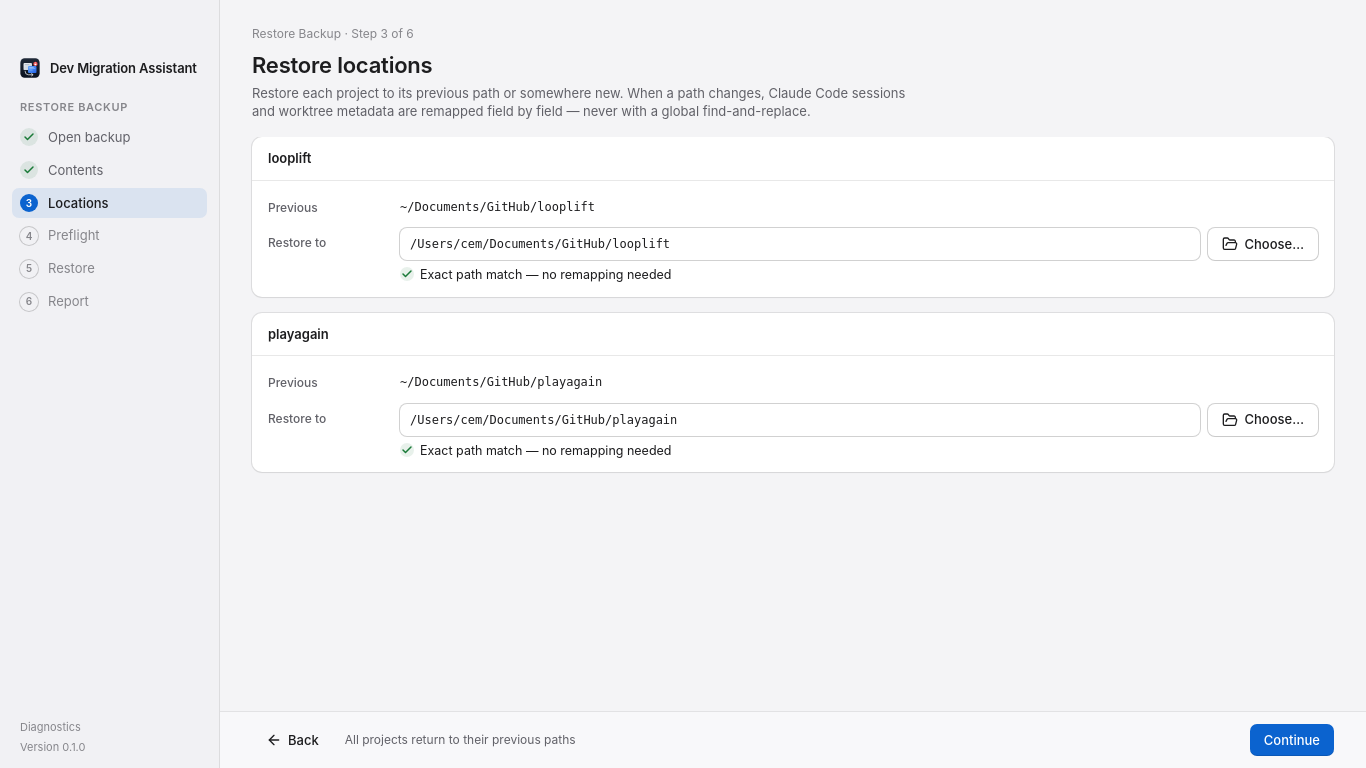
it: Restore — mapping › uses the native chooser and starts planning
Click the button with test id "mapping-choose-1" at (1263, 420), box [1208, 404, 1318, 436]
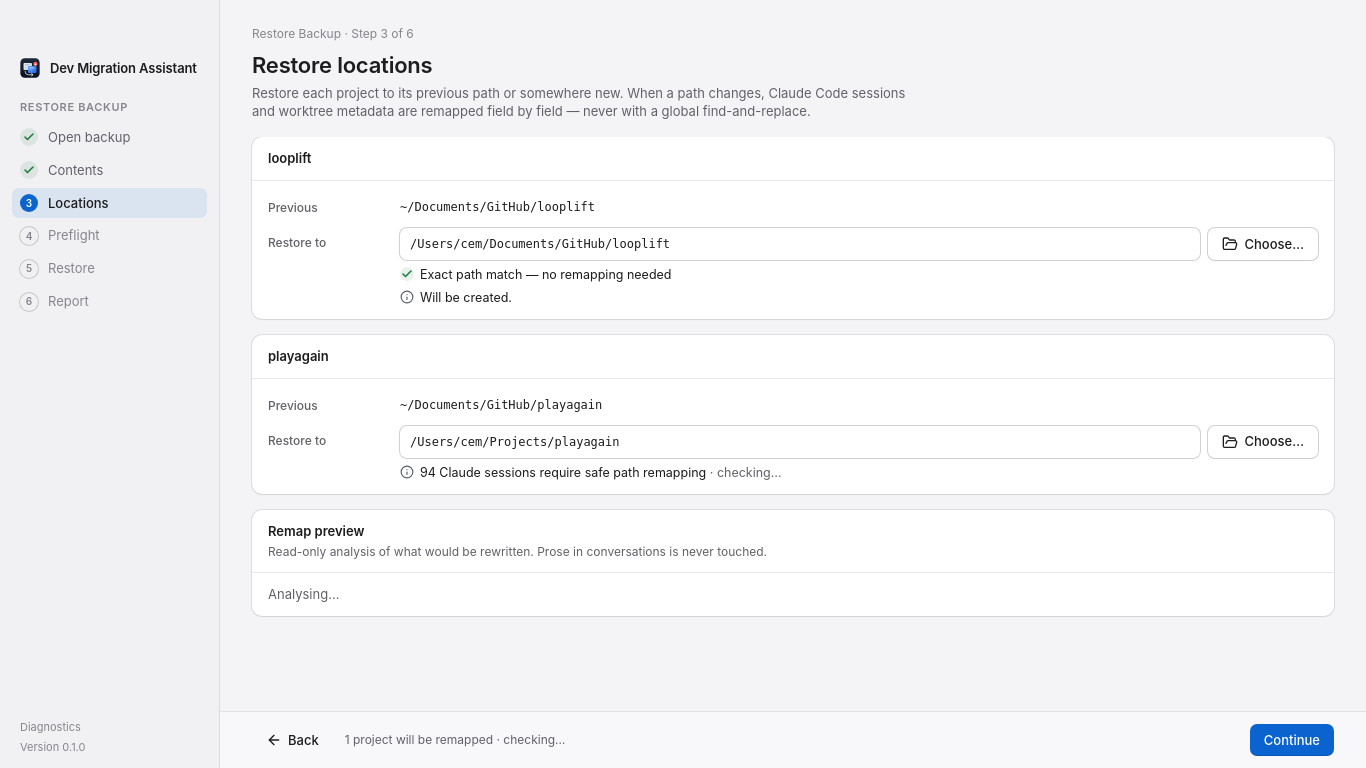
Expected: the field with test id "mapping-input-1" holds "/Users/cem/Projects/playagain", [400, 426, 1200, 458]
Click the button with test id "mapping-continue" at (1292, 740), box [1250, 724, 1334, 756]
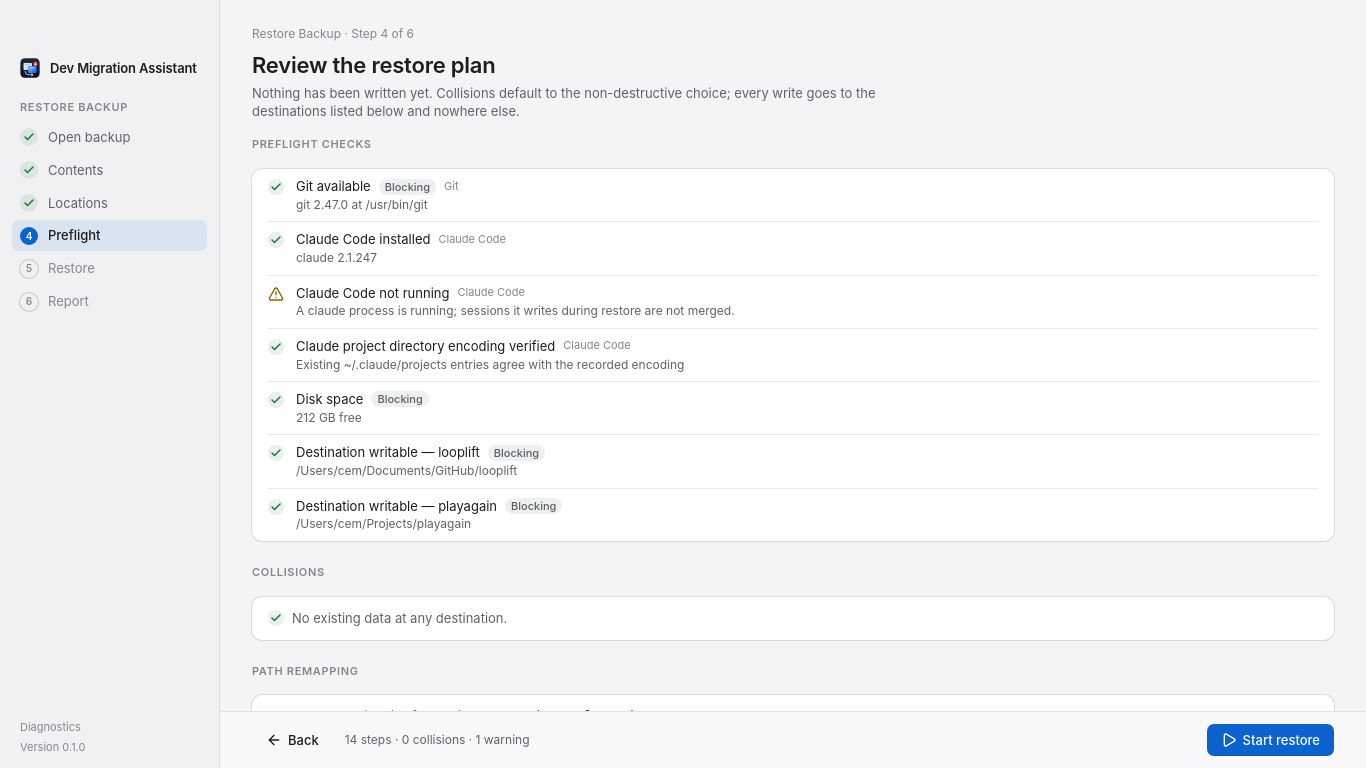
Expected: the element with test id "screen-restore-preflight" is shown
Expected: the button with test id "plan-execute" is shown, [1207, 724, 1334, 756]
Expected: the element with test id "plan-preflight" is shown, [252, 169, 1334, 541]
